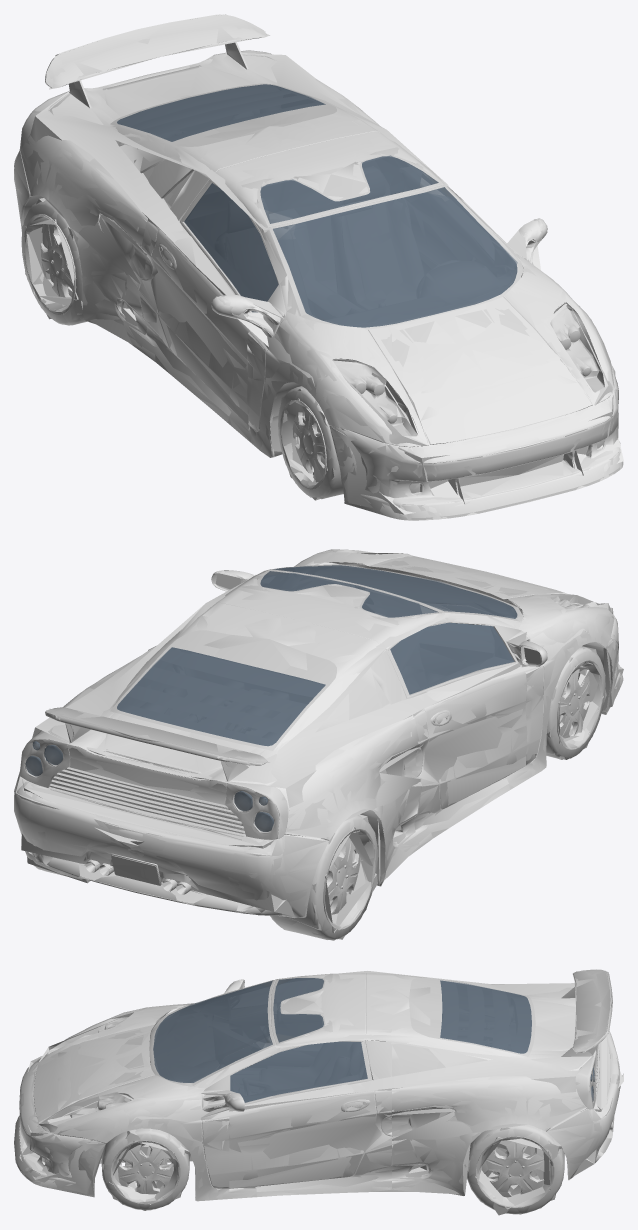
The model's file is sports.fbx.
The picture shows the model from 3 angles, top to bottom: view 1: azimuth 30°, elevation 25°; view 2: azimuth 150°, elevation 25°; view 3: azimuth 270°, elevation 25°; orthographic projection. The views are drawn at different scales.
Visible parts, largest first — view 1: Body, LOD1_Body, LOD2_Body, LOD3_Body, Door_FR, LOD3_Door_FR, LOD1_Door_FR, LOD2_Door_FR, Wheel_RR, Wheel_FR, LOD3_Wheel_RR, LOD1_Wheel_FR (+4 smaller); view 2: Body, LOD1_Body, LOD3_Body, LOD2_Body, Door_FR, LOD3_Door_FR, LOD2_Door_FR, LOD1_Door_FR, Wheel_RR, Wheel_FR, LOD1_Wheel_RR, LOD3_Wheel_RR (+2 smaller); view 3: Body, LOD1_Body, LOD3_Body, LOD2_Body, Door_FL, LOD3_Door_FL, LOD2_Door_FL, LOD1_Door_FL, Wheel_RL, Wheel_FL, LOD3_Wheel_RL, LOD1_Wheel_RL (+3 smaller).
Part boxes in pixels (x1=…): Body: x1=14, y1=14, x2=623, y2=520; LOD1_Body: x1=14, y1=14, x2=623, y2=520; LOD2_Body: x1=14, y1=14, x2=622, y2=520; LOD3_Body: x1=24, y1=34, x2=623, y2=514; Door_FR: x1=139, y1=189, x2=309, y2=424; LOD3_Door_FR: x1=140, y1=183, x2=286, y2=424; LOD1_Door_FR: x1=141, y1=183, x2=309, y2=425; LOD2_Door_FR: x1=139, y1=187, x2=275, y2=424; Wheel_RR: x1=21, y1=200, x2=87, y2=325; Wheel_FR: x1=278, y1=386, x2=343, y2=499; LOD3_Wheel_RR: x1=22, y1=198, x2=82, y2=319; LOD1_Wheel_FR: x1=278, y1=388, x2=343, y2=498; Body: x1=14, y1=549, x2=623, y2=918; LOD1_Body: x1=14, y1=549, x2=623, y2=917; LOD3_Body: x1=21, y1=553, x2=623, y2=916; LOD2_Body: x1=14, y1=549, x2=622, y2=917; Door_FR: x1=393, y1=604, x2=547, y2=842; LOD3_Door_FR: x1=390, y1=613, x2=525, y2=825; LOD2_Door_FR: x1=394, y1=617, x2=526, y2=827; LOD1_Door_FR: x1=390, y1=605, x2=547, y2=844; Wheel_RR: x1=271, y1=815, x2=377, y2=939; Wheel_FR: x1=546, y1=646, x2=605, y2=759; LOD1_Wheel_RR: x1=270, y1=816, x2=377, y2=940; LOD3_Wheel_RR: x1=289, y1=814, x2=377, y2=939; Body: x1=14, y1=969, x2=620, y2=1201; LOD1_Body: x1=14, y1=970, x2=620, y2=1200; LOD3_Body: x1=19, y1=971, x2=623, y2=1194; LOD2_Body: x1=14, y1=969, x2=620, y2=1199; Door_FL: x1=215, y1=1034, x2=391, y2=1192; LOD3_Door_FL: x1=229, y1=1041, x2=391, y2=1191; LOD2_Door_FL: x1=229, y1=1045, x2=391, y2=1191; LOD1_Door_FL: x1=216, y1=1034, x2=391, y2=1191; Wheel_RL: x1=467, y1=1124, x2=564, y2=1214; Wheel_FL: x1=102, y1=1128, x2=189, y2=1209; LOD3_Wheel_RL: x1=464, y1=1127, x2=564, y2=1215; LOD1_Wheel_RL: x1=467, y1=1125, x2=563, y2=1214.
Bounding box in the file's own units: 2.15 × 1.31 × 4.47.
